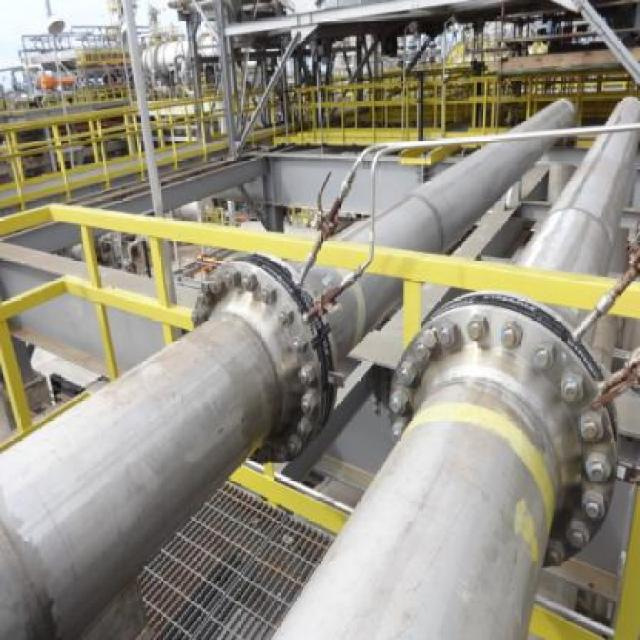gas: (0, 97, 579, 640), (272, 93, 640, 638)
